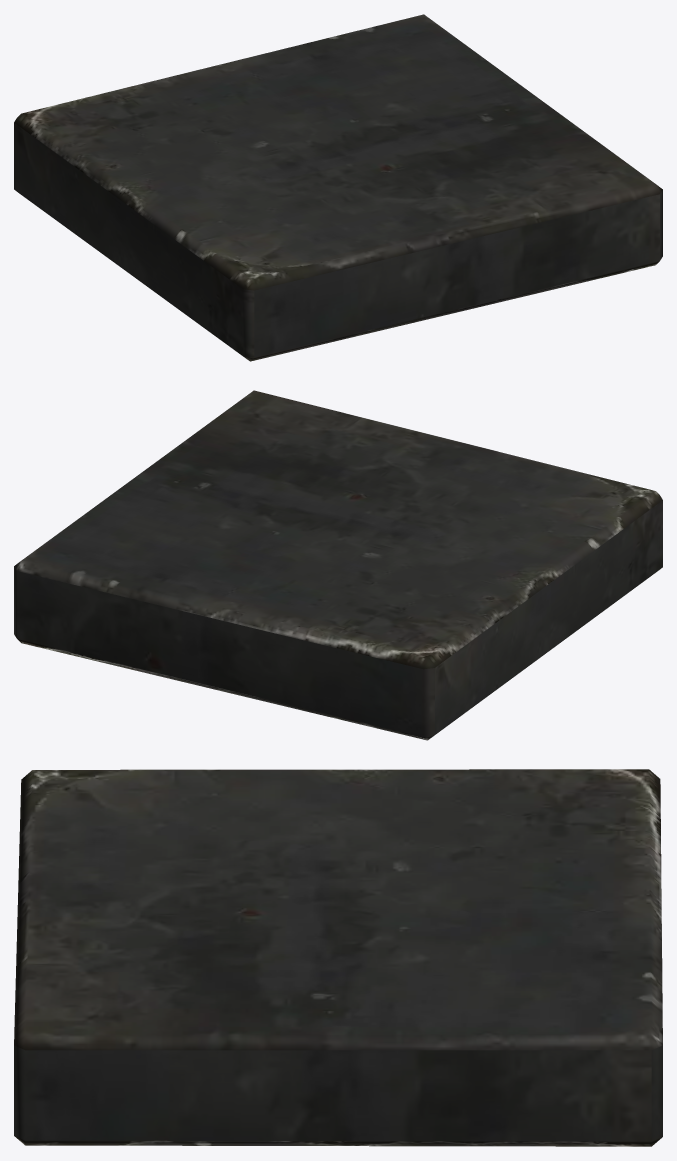
3 renders of one model, top to bottom at view 1: azimuth 30°, elevation 25°; view 2: azimuth 150°, elevation 25°; view 3: azimuth 270°, elevation 25°, orthographic. The views are drawn at different scales.
Visible parts, largest first — view 1: SM_DeathTemple_Floor_Slab_02_LOD0; view 2: SM_DeathTemple_Floor_Slab_02_LOD0; view 3: SM_DeathTemple_Floor_Slab_02_LOD0.
Boxes of the visible parts, x1,y1,x2,y2 form: SM_DeathTemple_Floor_Slab_02_LOD0: (14,14,662,361); SM_DeathTemple_Floor_Slab_02_LOD0: (14,390,662,740); SM_DeathTemple_Floor_Slab_02_LOD0: (14,769,662,1146).
Size of the model in its own units: 0.981 by 0.1841 by 0.9754.
Materials: 1 (1 with a texture image).
